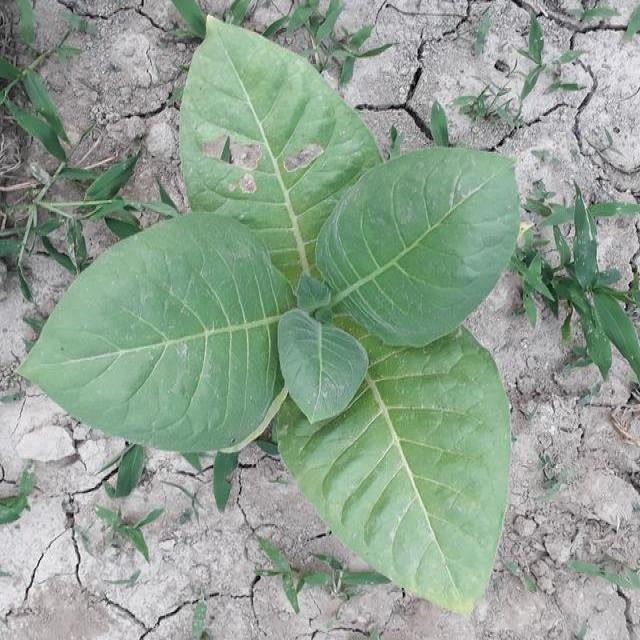crop: (16, 13, 523, 614)
